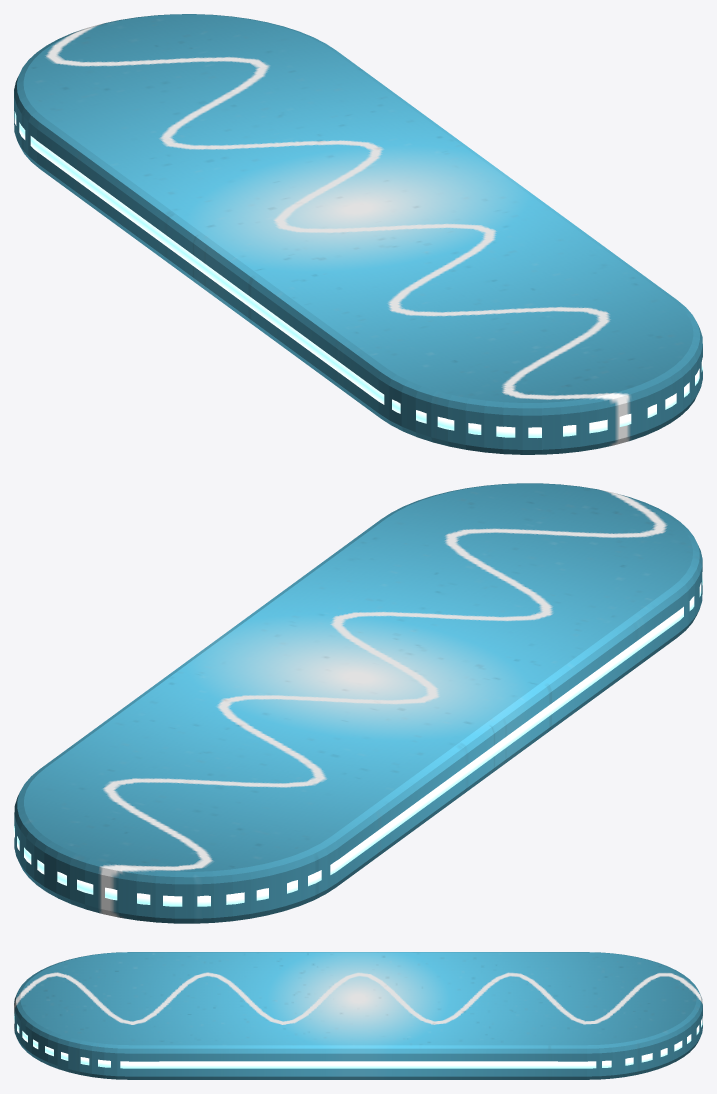
File: hoverboard_energy.glb
The picture shows the model from 3 angles, top to bottom: view 1: azimuth 30°, elevation 25°; view 2: azimuth 150°, elevation 25°; view 3: azimuth 270°, elevation 25°; orthographic projection. The views are drawn at different scales.
Parts seen in each view (by area): view 1: Hoverboard_energy_BoardTop, Hoverboard_energy_BoardEdge; view 2: Hoverboard_energy_BoardTop, Hoverboard_energy_BoardEdge; view 3: Hoverboard_energy_BoardTop, Hoverboard_energy_BoardEdge.
Part boxes in pixels (<box>): Hoverboard_energy_BoardTop: <box>14,14,702,454</box>; Hoverboard_energy_BoardEdge: <box>14,111,702,437</box>; Hoverboard_energy_BoardTop: <box>14,483,702,923</box>; Hoverboard_energy_BoardEdge: <box>14,571,702,906</box>; Hoverboard_energy_BoardTop: <box>14,952,702,1079</box>; Hoverboard_energy_BoardEdge: <box>14,1014,702,1068</box>.
Bounding box in the file's own units: 0.5519 × 0.165 × 1.63.
Materials: 4 (1 with a texture image).
